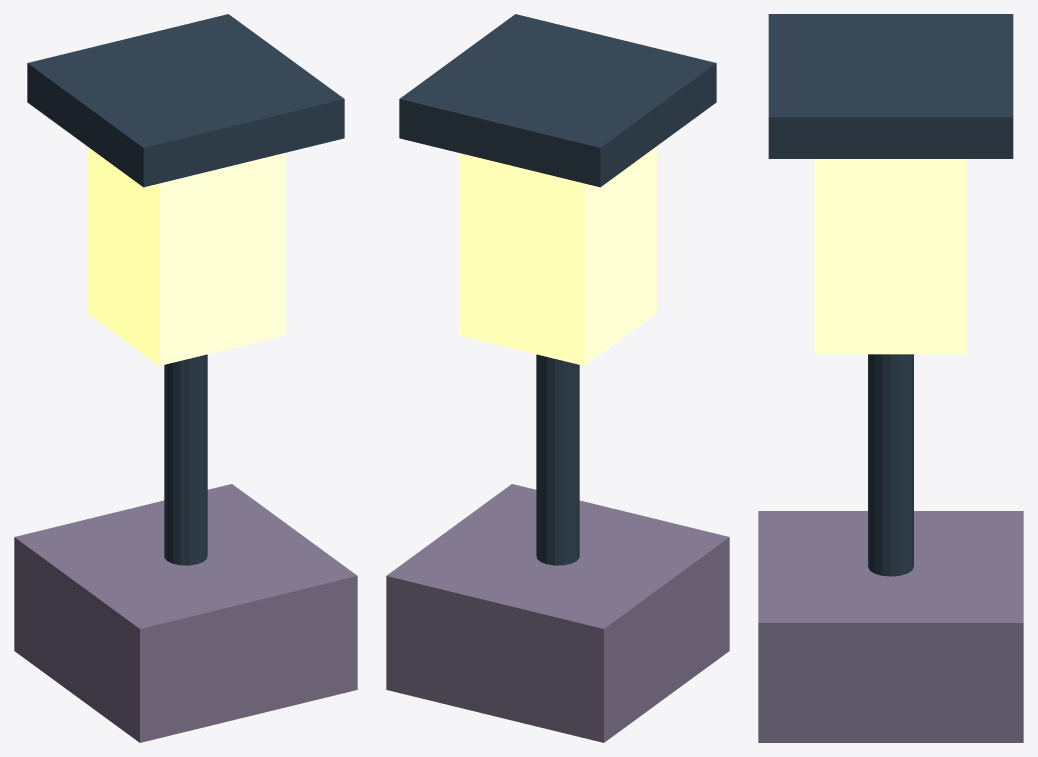
The model's file is Lamp.glb.
3 renders of one model, left to right at view 1: azimuth 30°, elevation 25°; view 2: azimuth 150°, elevation 25°; view 3: azimuth 270°, elevation 25°, orthographic. The views are drawn at different scales.
Parts seen in each view (by area): view 1: Stone.004, Dark.004, Gold.001, Dark.003; view 2: Stone.004, Dark.004, Gold.001, Dark.003; view 3: Stone.004, Dark.004, Gold.001, Dark.003.
Boxes of the visible parts, left/top/right/bottom form: Stone.004: left=14, top=484, right=357, bottom=742; Dark.004: left=27, top=14, right=344, bottom=187; Gold.001: left=87, top=146, right=284, bottom=365; Dark.003: left=164, top=354, right=207, bottom=565; Stone.004: left=386, top=484, right=729, bottom=742; Dark.004: left=399, top=14, right=716, bottom=187; Gold.001: left=459, top=146, right=656, bottom=365; Dark.003: left=536, top=354, right=579, bottom=565; Stone.004: left=758, top=511, right=1023, bottom=742; Dark.004: left=768, top=14, right=1013, bottom=158; Gold.001: left=814, top=159, right=967, bottom=354; Dark.003: left=868, top=354, right=913, bottom=576.
Bounding box in the file's own units: 0.52 × 1.34 × 0.52.
